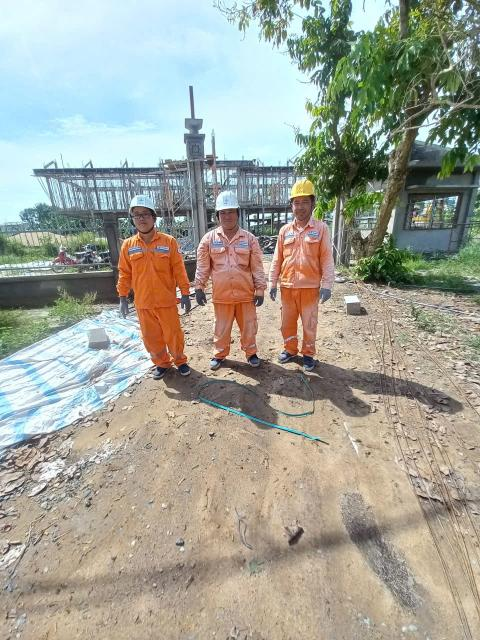gloves: (179, 289, 203, 330), (114, 296, 137, 324), (266, 279, 288, 308), (190, 280, 214, 306), (253, 284, 267, 319), (315, 281, 338, 300)
helmet: (284, 173, 325, 207), (117, 191, 163, 220), (211, 183, 243, 220)
shoes: (270, 337, 302, 365), (150, 352, 173, 388), (299, 346, 327, 375), (208, 350, 237, 377), (174, 353, 201, 380), (241, 348, 267, 367)
